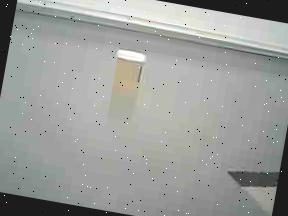Bottle B: (104, 41, 158, 108)
